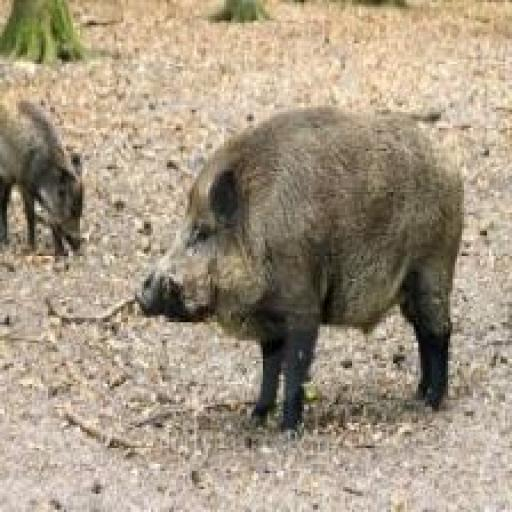Pig: (124, 98, 468, 448), (0, 94, 93, 267)
